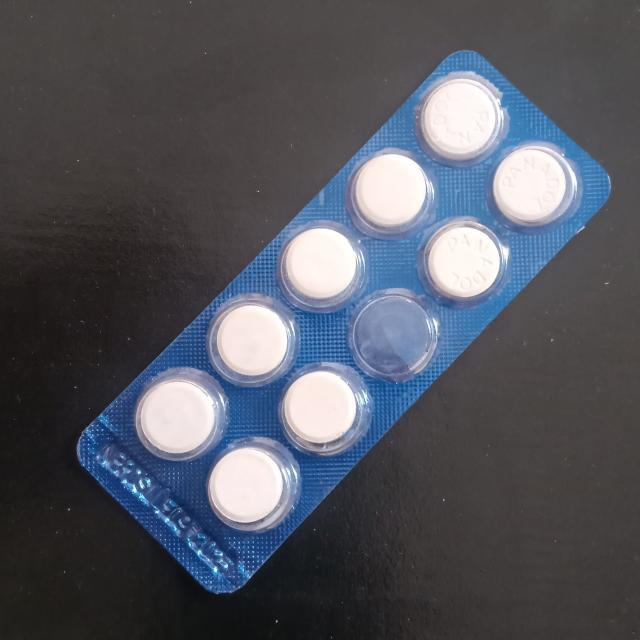defect: (353, 297, 437, 382)
